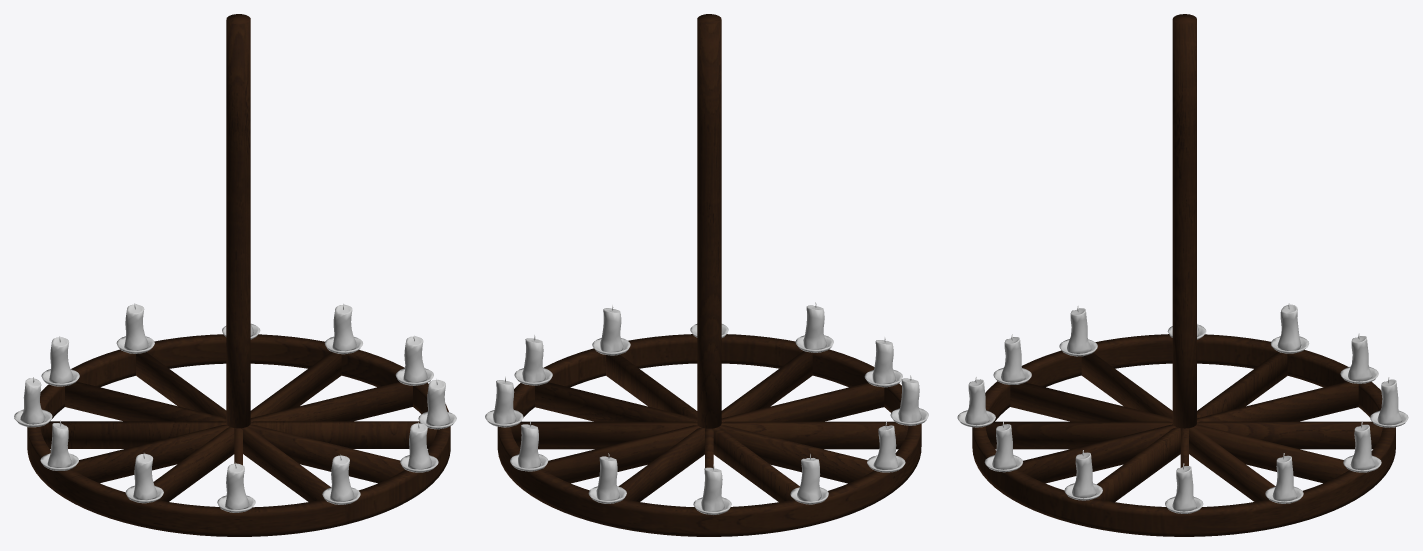
Rendered from chandelier.fbx.
3 views of the same model, side by side, from view 1: azimuth 30°, elevation 25°; view 2: azimuth 150°, elevation 25°; view 3: azimuth 270°, elevation 25° (orthographic).
Parts seen in each view (by area): view 1: Light, Candles; view 2: Light, Candles; view 3: Light, Candles.
Boxes of the visible parts, <box> form: Light: <box>27,14,450,536</box>; Candles: <box>14,303,456,512</box>; Light: <box>497,14,921,536</box>; Candles: <box>485,302,928,514</box>; Light: <box>972,14,1395,536</box>; Candles: <box>957,303,1408,513</box>.
Size of the model in its own units: 61.85 by 65.36 by 62.4.
